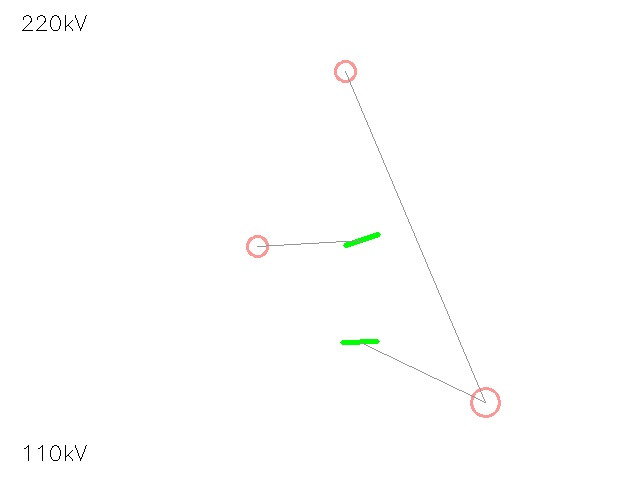busbar: (340, 218, 384, 262), (338, 320, 382, 364)
disconnect_switch: (457, 374, 513, 430), (236, 225, 278, 267)
load_break_switch: (325, 51, 365, 91)
